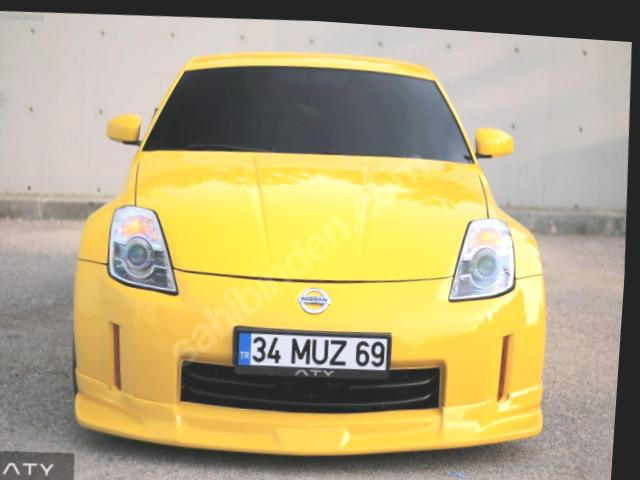plaka: (234, 328, 391, 377)
